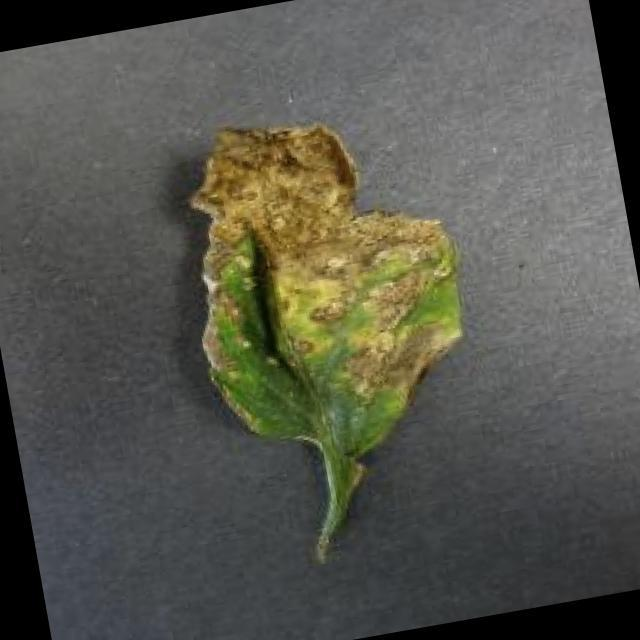Tomato bacterial spot leaf: (152, 86, 488, 481)
